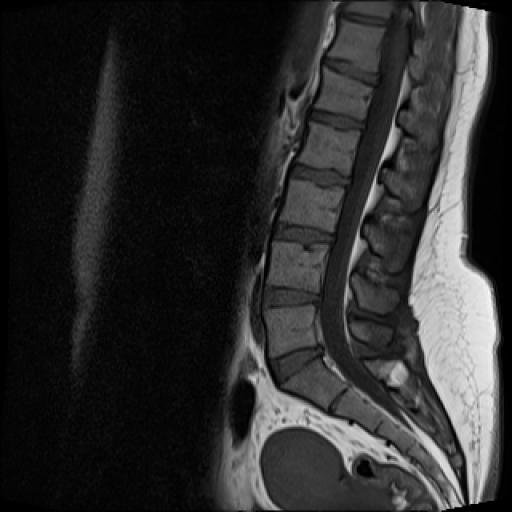L1: (314, 65, 373, 120)
L2: (296, 120, 360, 174)
L3: (279, 178, 344, 232)
L4: (267, 241, 329, 292)
L5: (264, 305, 317, 358)
S1: (280, 358, 348, 410)
